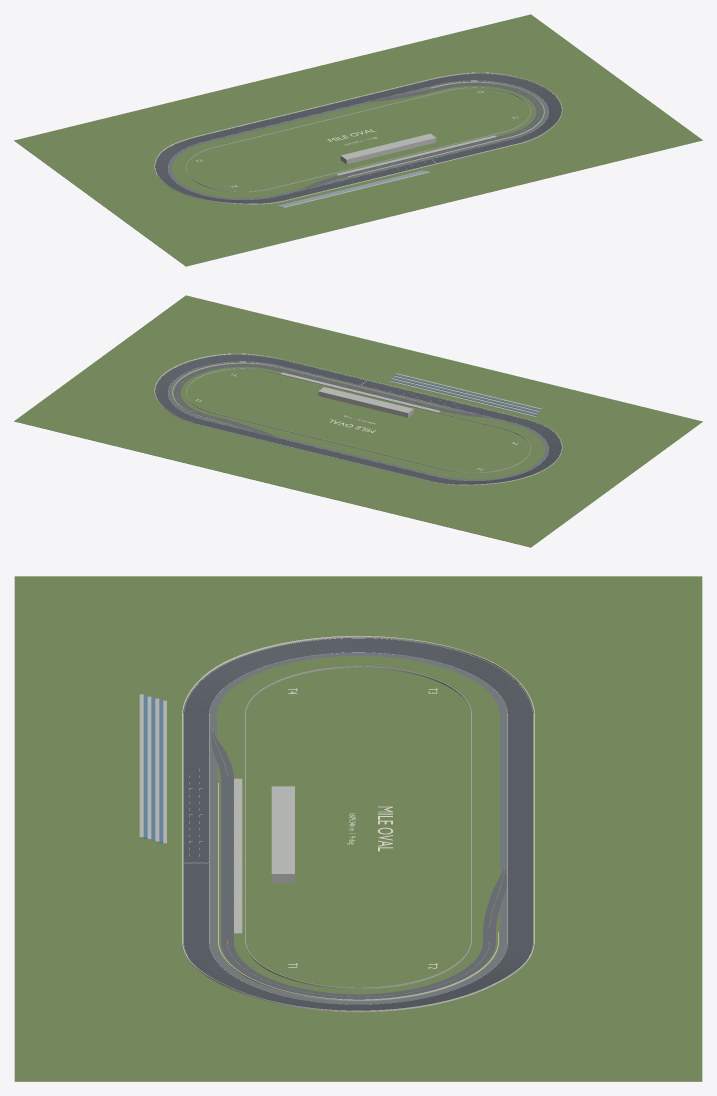
File: mile_oval.glb
3 renders of one model, top to bottom at view 1: azimuth 30°, elevation 25°; view 2: azimuth 150°, elevation 25°; view 3: azimuth 270°, elevation 25°, orthographic. The views are drawn at different scales.
Parts seen in each view (by area): view 1: Ground-col, RacingSurface-col, Apron-col, PitLane-col, OuterWall-col, InnerWall-col, PitBuilding-col, PitSeparator-col, PitBoxesConcrete-col; view 2: Ground-col, RacingSurface-col, Apron-col, PitLane-col, OuterWall-col, InnerWall-col, PitBuilding-col, PitSeparator-col, PitBoxesConcrete-col; view 3: Ground-col, RacingSurface-col, Apron-col, PitLane-col, PitBuilding-col, OuterWall-col, InnerWall-col, PitBoxesConcrete-col, PitSeparator-col.
Boxes of the visible parts, <box> form: Ground-col: <box>14,14,702,266</box>; RacingSurface-col: <box>155,73,561,203</box>; Apron-col: <box>168,80,548,199</box>; PitLane-col: <box>293,83,542,191</box>; OuterWall-col: <box>154,72,562,204</box>; InnerWall-col: <box>186,87,530,192</box>; PitBuilding-col: <box>340,133,436,164</box>; PitSeparator-col: <box>348,81,544,176</box>; PitBoxesConcrete-col: <box>337,135,496,175</box>; Ground-col: <box>14,295,702,547</box>; RacingSurface-col: <box>155,354,561,484</box>; Apron-col: <box>168,361,548,480</box>; PitLane-col: <box>174,364,495,438</box>; OuterWall-col: <box>154,353,562,485</box>; InnerWall-col: <box>186,368,530,473</box>; PitBuilding-col: <box>318,387,413,417</box>; PitSeparator-col: <box>172,362,438,420</box>; PitBoxesConcrete-col: <box>280,372,440,412</box>; Ground-col: <box>14,576,702,1081</box>; RacingSurface-col: <box>183,638,533,1010</box>; Apron-col: <box>209,652,507,1004</box>; PitLane-col: <box>211,727,506,999</box>; PitBuilding-col: <box>271,786,294,883</box>; OuterWall-col: <box>182,636,534,1012</box>; InnerWall-col: <box>245,666,471,989</box>; PitBoxesConcrete-col: <box>234,778,242,933</box>; PitSeparator-col: <box>218,783,498,1000</box>.
Bounding box in the file's own units: 920 × 8.5 × 530.
